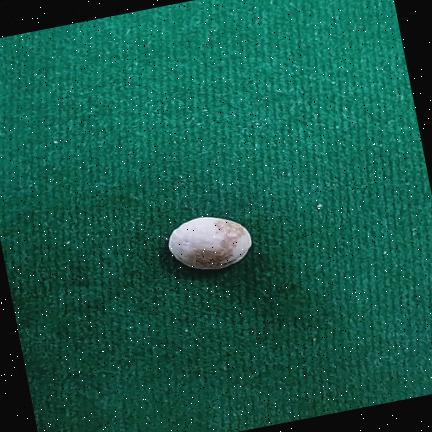immature: (168, 217, 252, 269)
